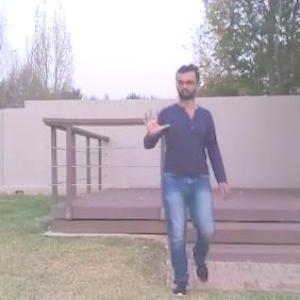follow_hand: (140, 104, 172, 140)
